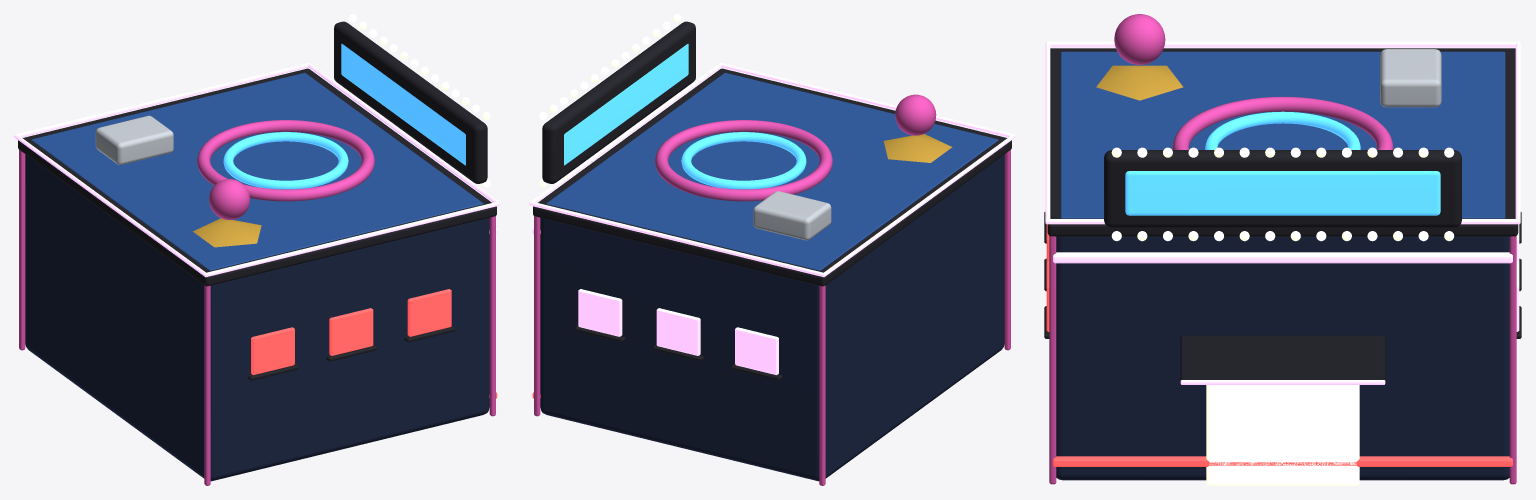
The model's file is arcade.glb.
3 renders of one model, left to right at view 1: azimuth 30°, elevation 25°; view 2: azimuth 150°, elevation 25°; view 3: azimuth 270°, elevation 25°, orthographic. The views are drawn at different scales.
Parts seen in each view (by area): view 1: arcade; view 2: arcade; view 3: arcade.
Boxes of the visible parts, x1,y1,x2,y2 form: arcade: (14, 14, 500, 485); arcade: (529, 14, 1015, 485); arcade: (1044, 14, 1521, 485).
Bounding box in the file's own units: 9.57 × 7.5 × 9.34.
1 material, 1 textured.
